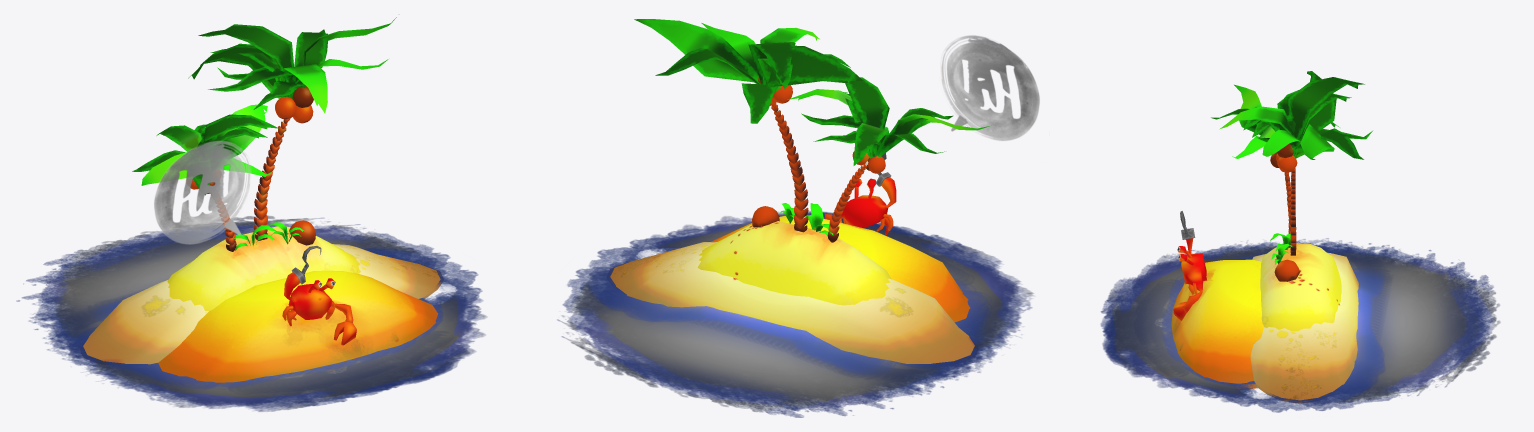
File: ilhaDeserto.glb
The picture shows the model from 3 angles, left to right: view 1: azimuth 30°, elevation 25°; view 2: azimuth 150°, elevation 25°; view 3: azimuth 270°, elevation 25°; orthographic projection. The views are drawn at different scales.
Parts seen in each view (by area): view 1: Object_2; view 2: Object_2; view 3: Object_2.
Boxes of the visible parts, <box> form: Object_2: <box>16,17,486,411</box>; Object_2: <box>557,19,1039,417</box>; Object_2: <box>1100,71,1500,412</box>.
Bounding box in the file's own units: 43.5 × 26.55 × 43.54.
Materials: 1 (1 with a texture image).
